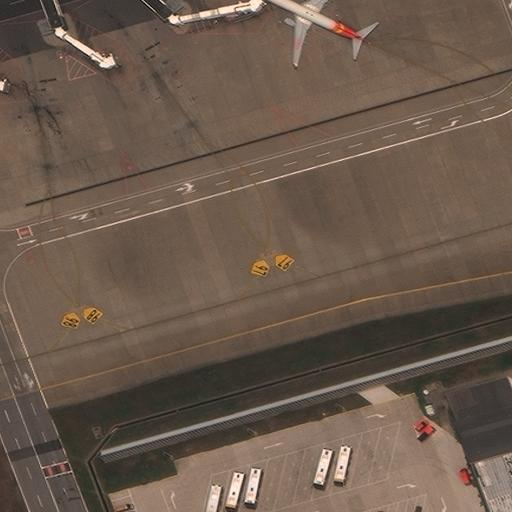Medium Civil Transport: (257, 0, 364, 65)
